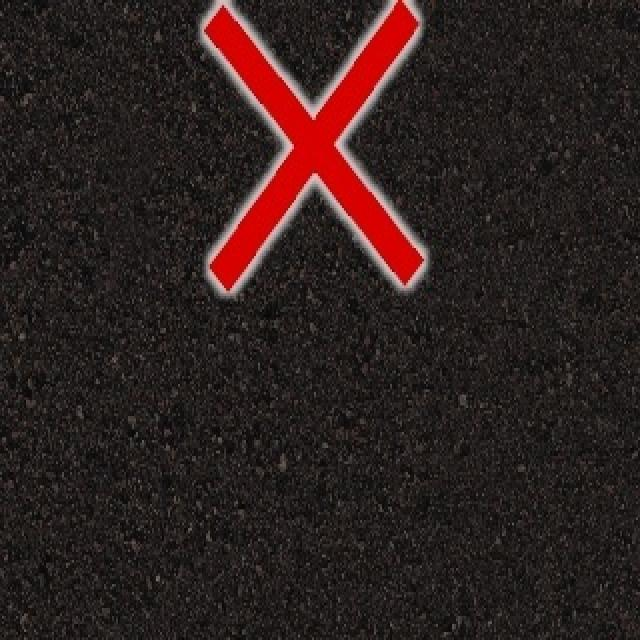x_marker: (203, 0, 423, 291)
